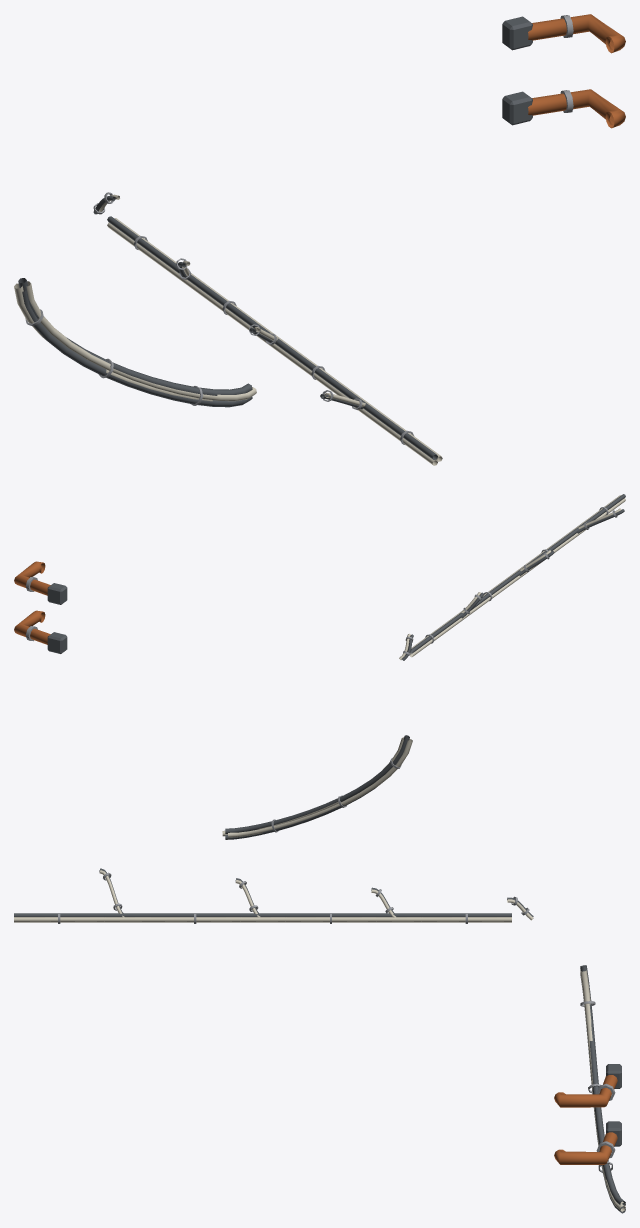
Rendered from n1_harness.obj.
3 views of the same model, one above another, from view 1: azimuth 30°, elevation 25°; view 2: azimuth 150°, elevation 25°; view 3: azimuth 270°, elevation 25° (orthographic). The views are drawn at different scales.
Parts seen in each view (by area): view 1: n1_harness; view 2: n1_harness; view 3: n1_harness.
Part boxes in pixels (x1,y1,x2,y2): n1_harness: [14, 14, 625, 465]; n1_harness: [14, 494, 625, 839]; n1_harness: [14, 868, 625, 1213].
Size of the model in its own units: 3.3 by 1.67 by 3.78.
